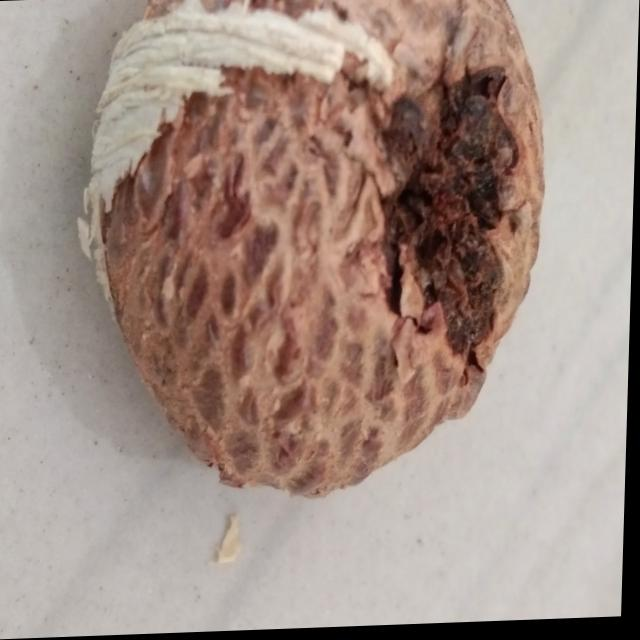karigot: (64, 0, 574, 516)
